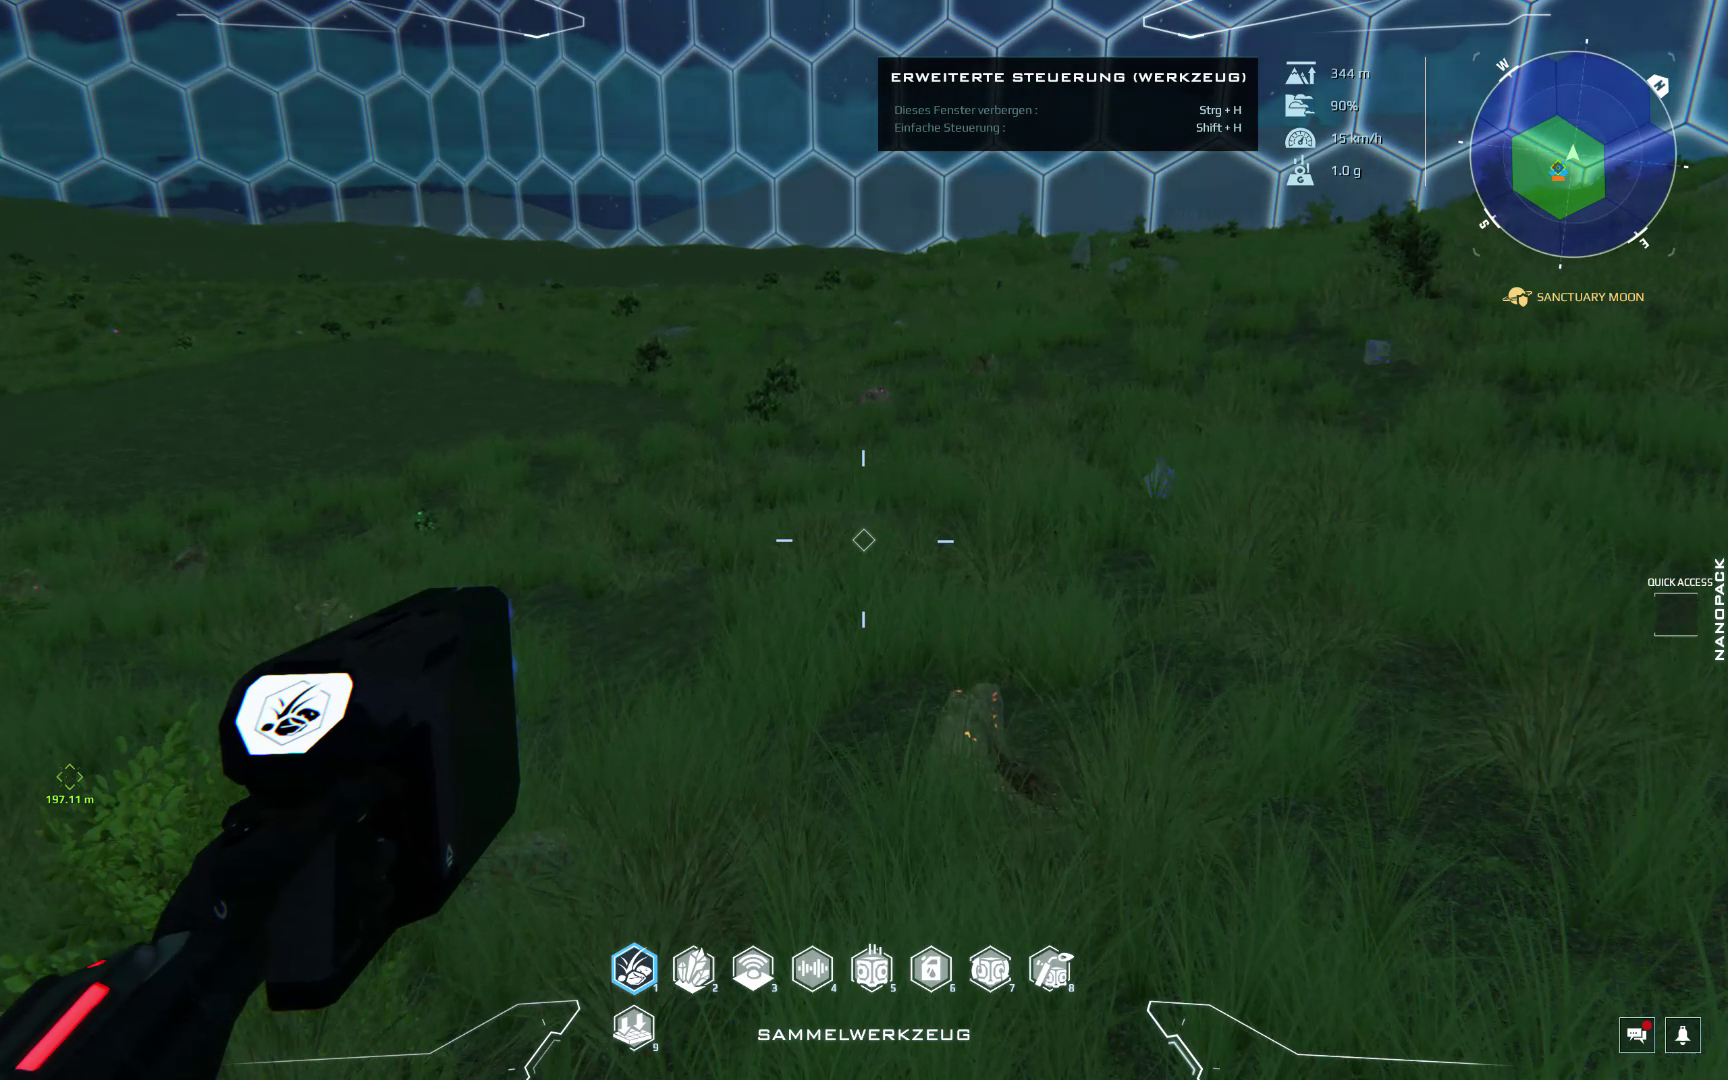Ore: (931, 682, 1011, 774), (853, 383, 892, 406)
